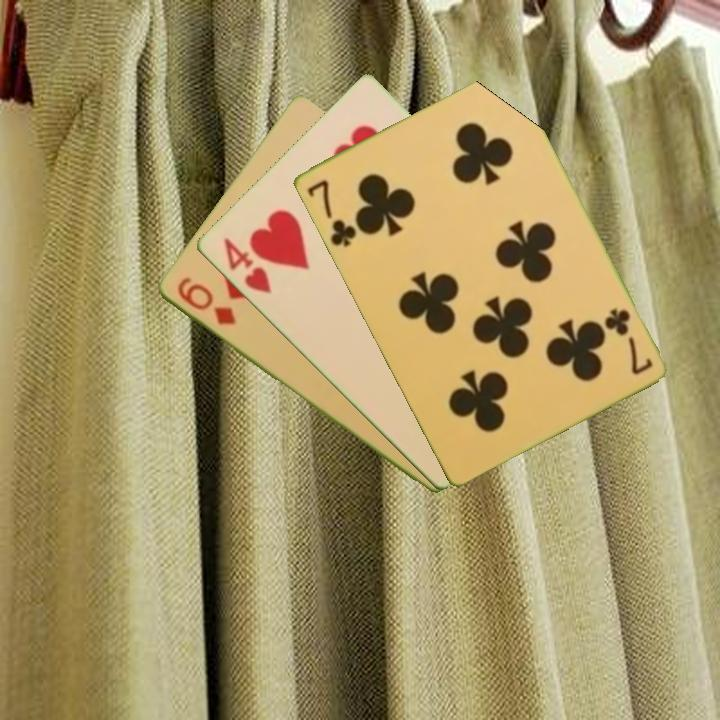4h: (219, 234, 275, 296)
6d: (173, 273, 239, 328)
7c: (303, 176, 359, 250), (600, 304, 655, 378)
